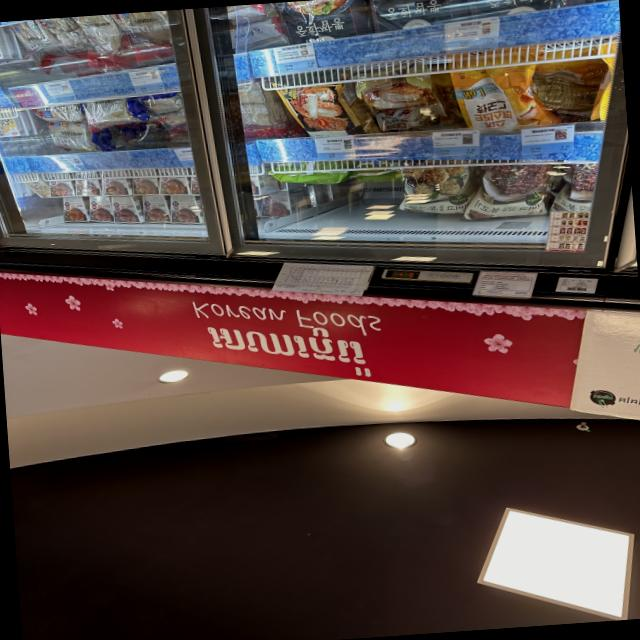Yolov11_80vkh: (192, 320, 384, 380)
